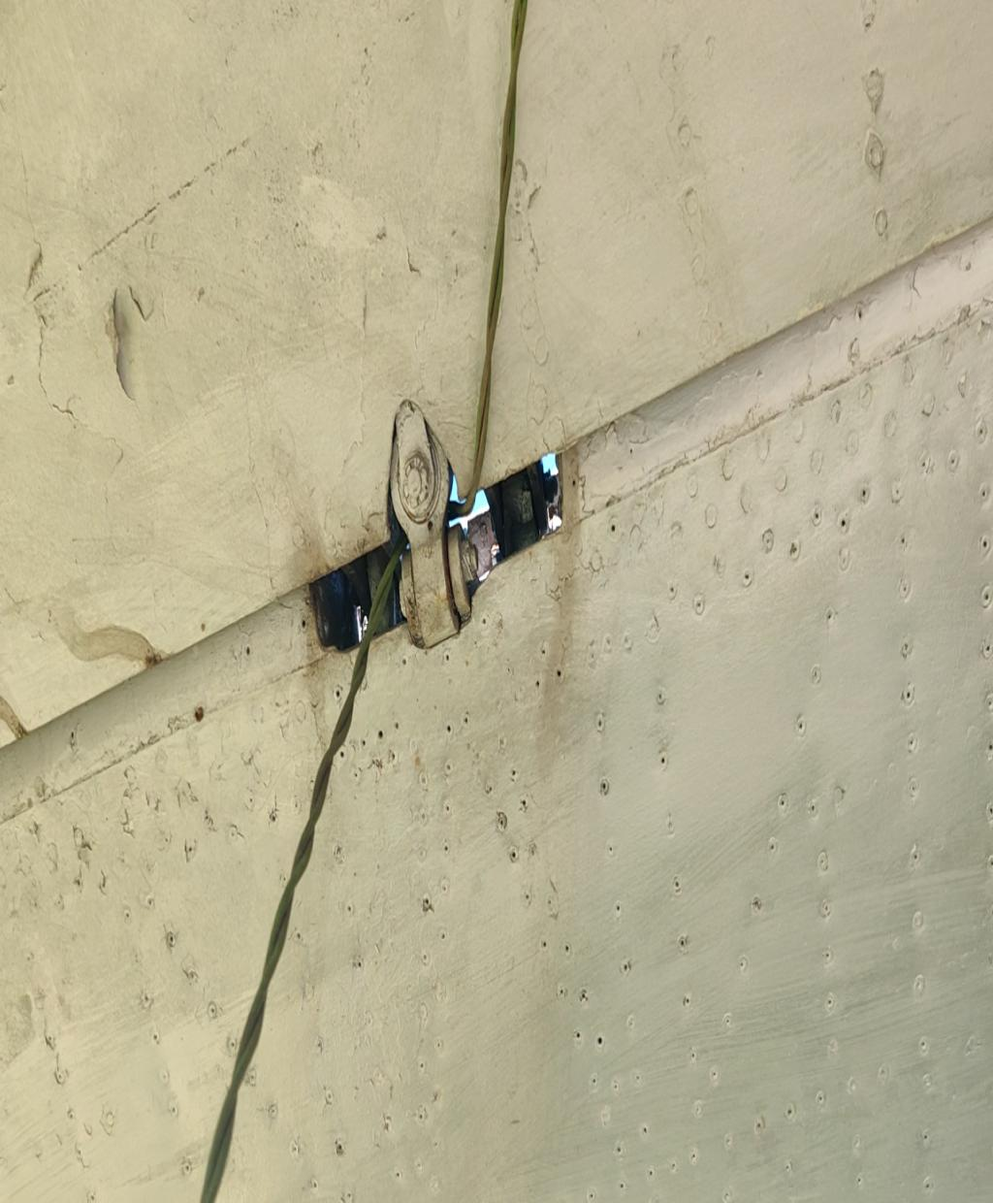corrosion: (105, 275, 159, 412)
